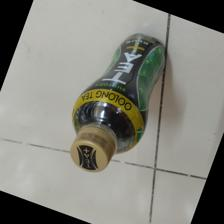Olong: (67, 32, 169, 176)
